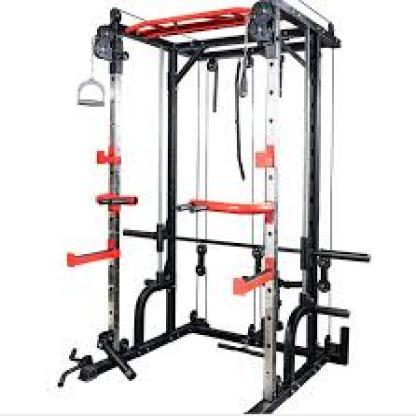smith machine: (59, 0, 350, 414)
